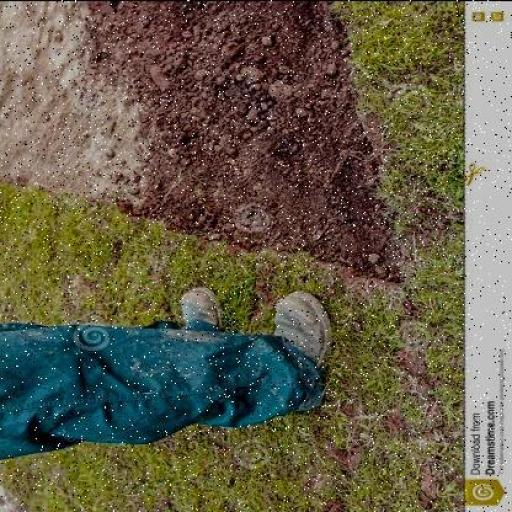safety_shoe: (268, 286, 335, 386), (179, 285, 223, 325)
